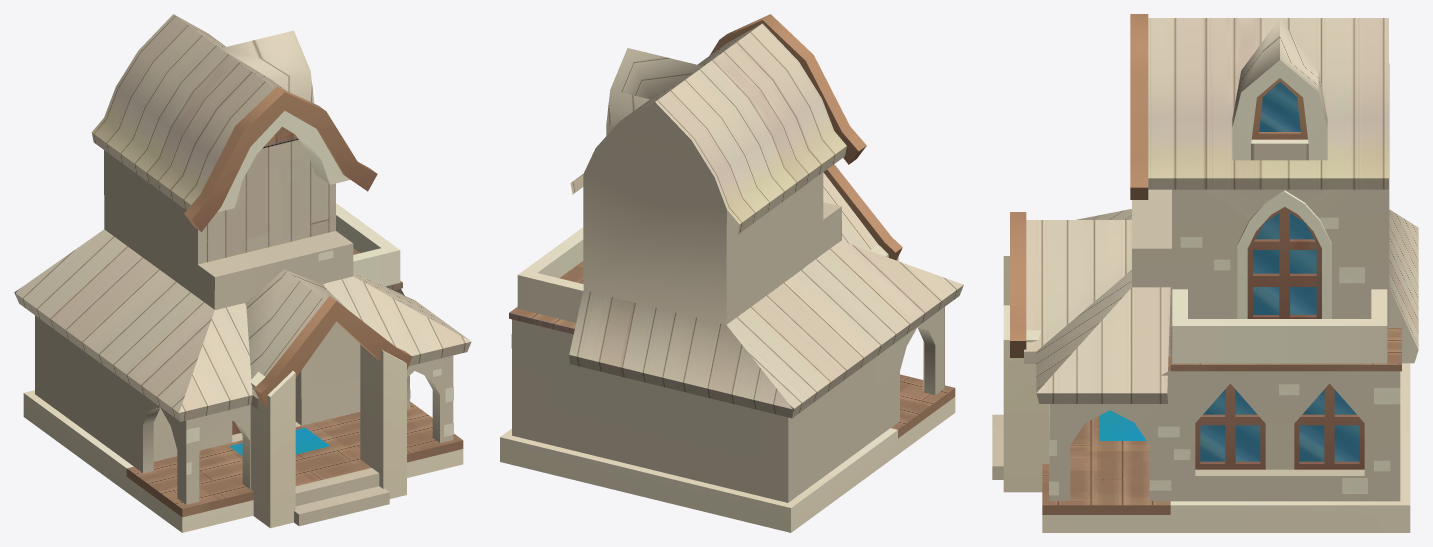
Rendered from Farmhouse.fbx.
3 views of the same model, side by side, from view 1: azimuth 30°, elevation 25°; view 2: azimuth 150°, elevation 25°; view 3: azimuth 270°, elevation 25° (orthographic). The views are drawn at different scales.
Parts seen in each view (by area): view 1: B_GF_GoldLeague_Farmhouse2; view 2: B_GF_GoldLeague_Farmhouse2; view 3: B_GF_GoldLeague_Farmhouse2.
Part boxes in pixels (x1,y1,x2,y2): B_GF_GoldLeague_Farmhouse2: (14,14,471,532); B_GF_GoldLeague_Farmhouse2: (500,14,963,532); B_GF_GoldLeague_Farmhouse2: (992,14,1418,532).
Size of the model in its own units: 600 by 743 by 652.
